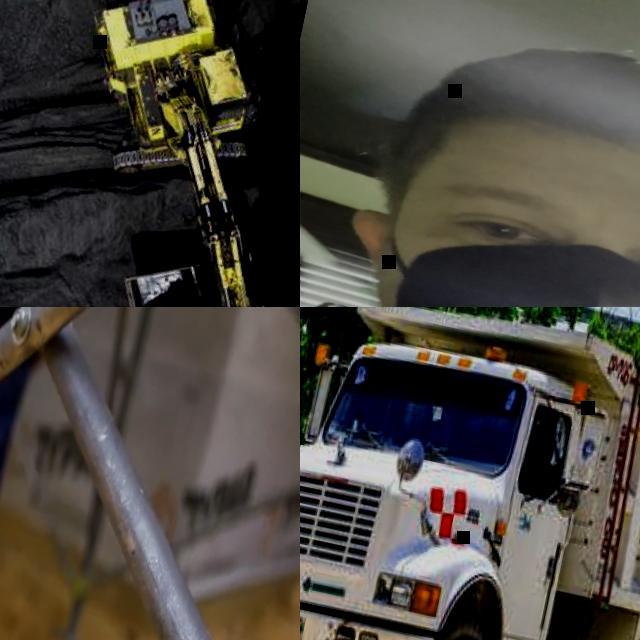machinery: (300, 307, 640, 640), (29, 0, 300, 307), (79, 236, 300, 307)
mask: (345, 217, 640, 307)
no_helmet: (397, 6, 640, 218)
person: (300, 0, 640, 307), (0, 307, 113, 640)
